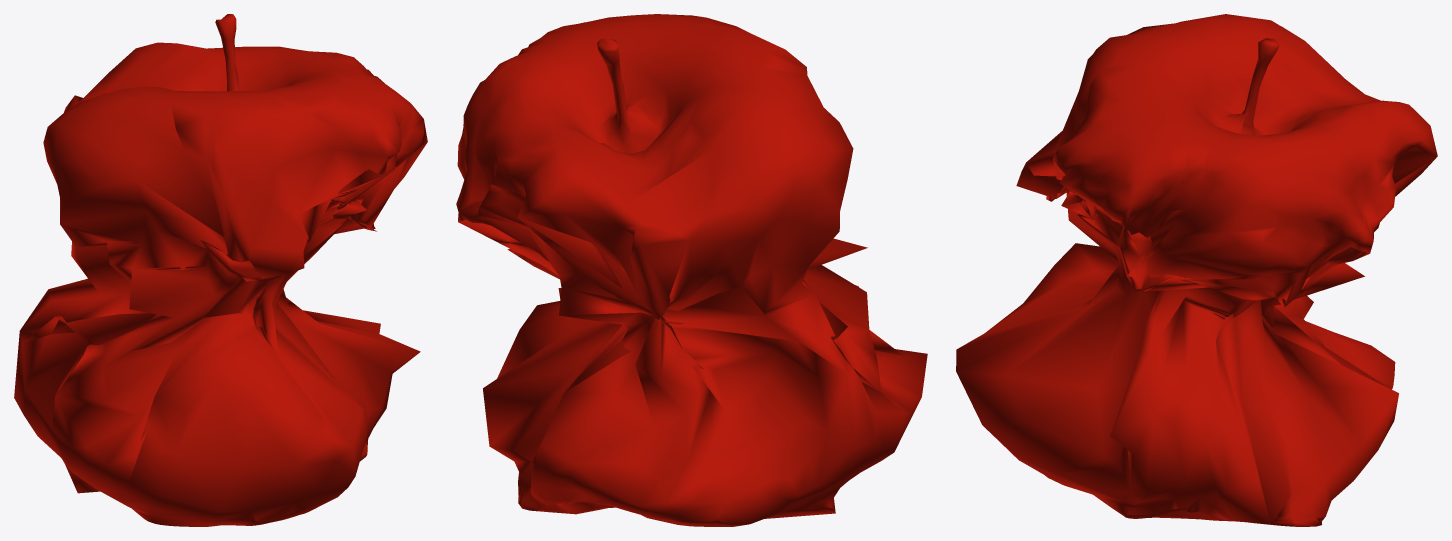
Rendered from Apple_Relic_1.fbx.
The picture shows the model from 3 angles, left to right: view 1: azimuth 30°, elevation 25°; view 2: azimuth 150°, elevation 25°; view 3: azimuth 270°, elevation 25°; orthographic projection. The views are drawn at different scales.
Parts seen in each view (by area): view 1: 3DModel.001; view 2: 3DModel.001; view 3: 3DModel.001.
Part boxes in pixels (x1,y1,x2,y2): 3DModel.001: (14,14,427,526); 3DModel.001: (456,14,927,526); 3DModel.001: (956,14,1437,526).
Bounding box in the file's own units: 34.61 × 38.46 × 36.7.
